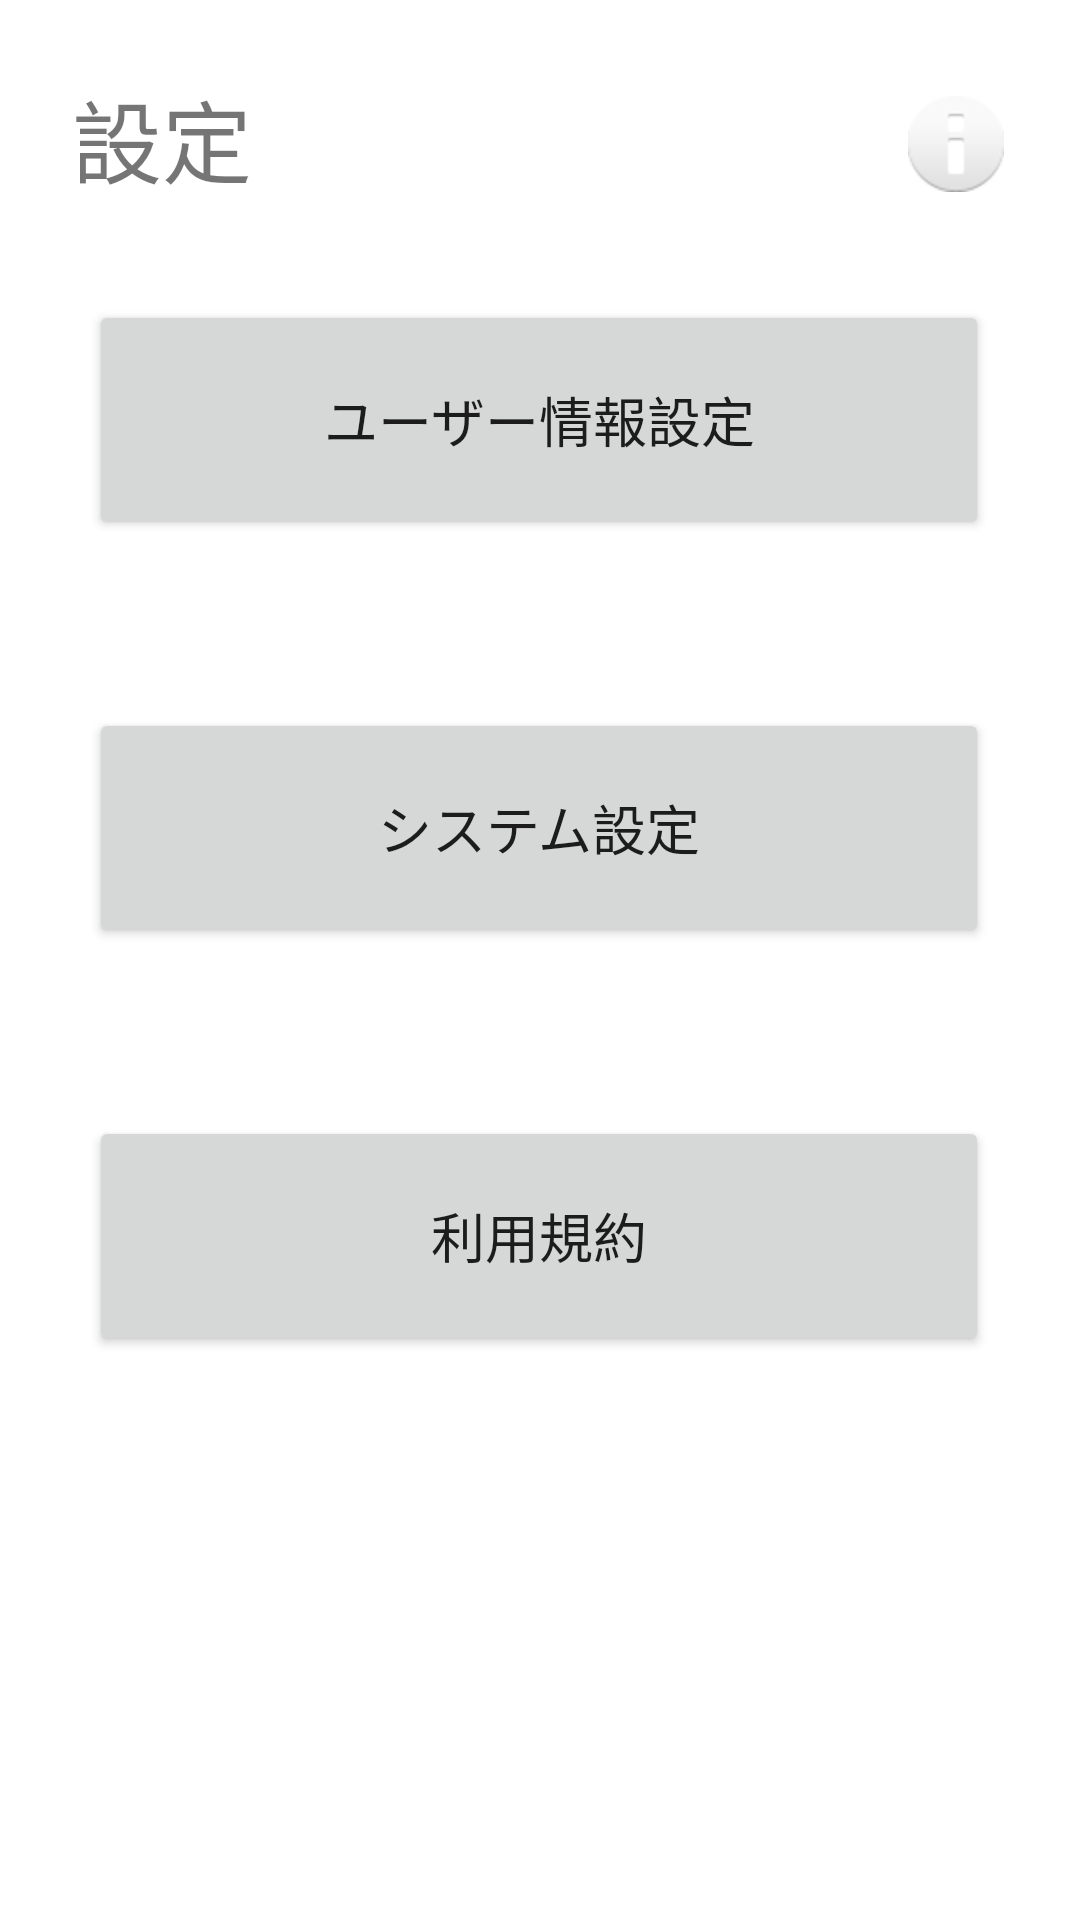

Point at icon controls on the screen. Image size 1080 × 1920, points as point (x, y).
info: point (956, 153)
